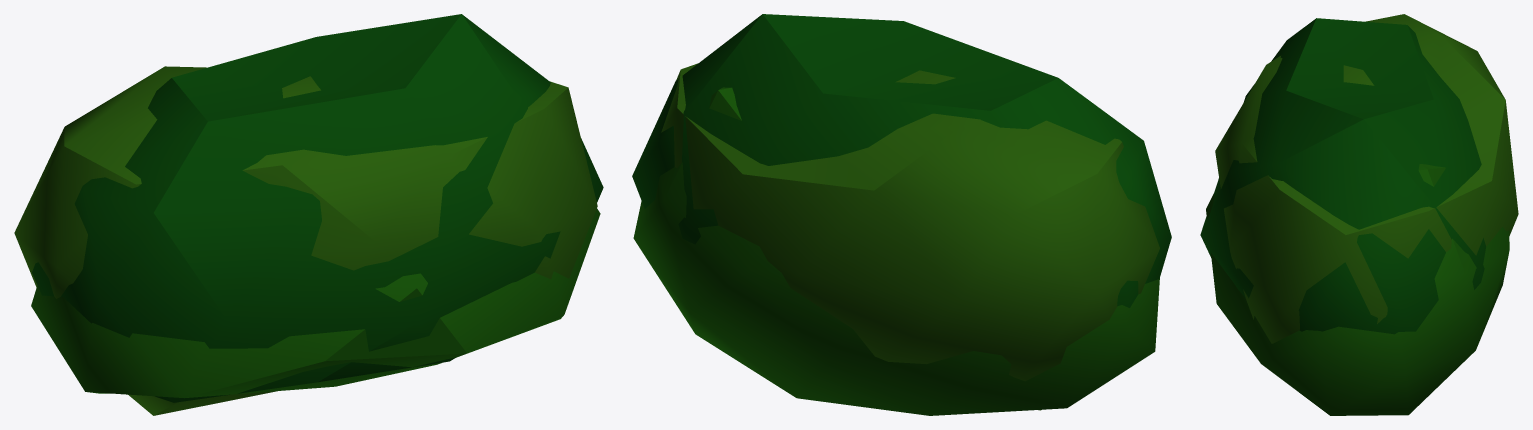
The model's file is Bush.fbx.
The picture shows the model from 3 angles, left to right: view 1: azimuth 30°, elevation 25°; view 2: azimuth 150°, elevation 25°; view 3: azimuth 270°, elevation 25°; orthographic projection. The views are drawn at different scales.
Visible parts, largest first — view 1: Icosphere.002; view 2: Icosphere.002; view 3: Icosphere.002.
Boxes of the visible parts, x1,y1,x2,y2 form: Icosphere.002: (14,14,603,415); Icosphere.002: (632,14,1171,415); Icosphere.002: (1200,14,1518,415).
Bounding box in the file's own units: 457 × 289 × 282.
